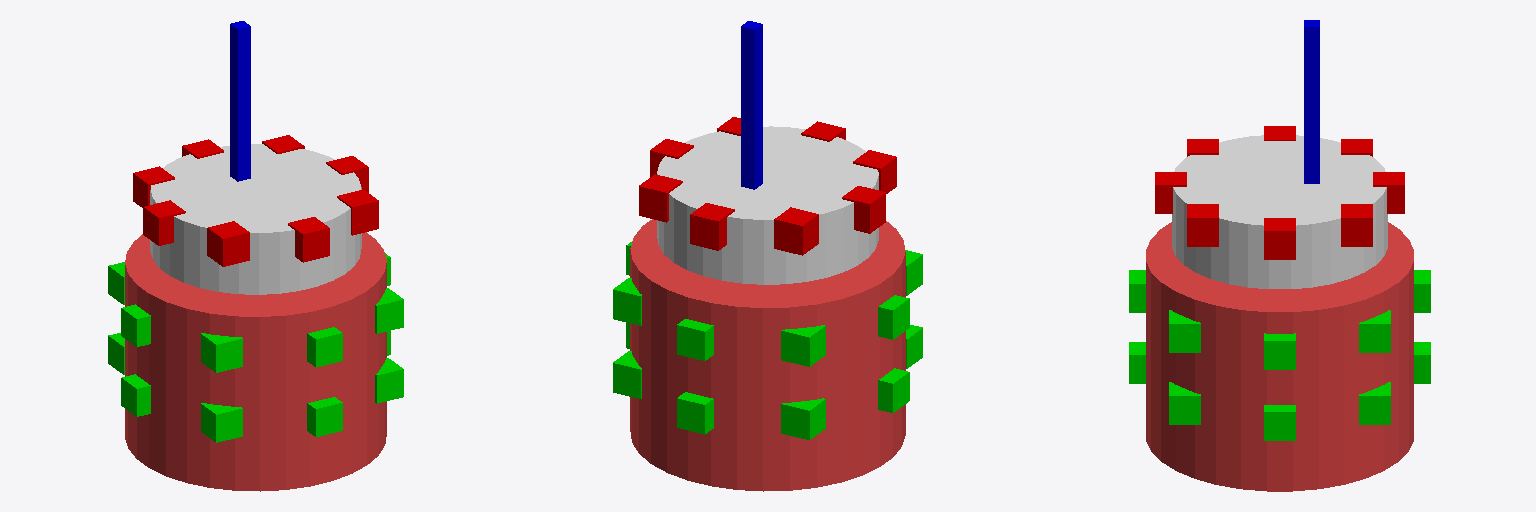
URDF robot description (random_bottle):
<?xml version="1.0"?>
<robot name="random_bottle">

  <!-- Define the cap link -->
  <link name="link1">
    <visual>
      <geometry>
        <mesh filename="cap.obj" scale="1.0 1.0 1.0"/>
      </geometry>
       <material name="white">
        <color rgba=".9 .9 .9 1"/>
      </material>

    </visual>
    <collision>
      <geometry>
        <mesh filename="cap.obj" scale="1.0 1.0 1.0"/>
      </geometry>
    </collision>

    <inertial>
      <mass value="0.012790120270006197"/> <!-- You can adjust the mass as needed -->
      <origin rpy="0 0 0" xyz="0 0 0"/>
      <inertia ixx="4.198117352491073e-06" ixy="0.0" ixz="0.0" iyy="4.198117352491073e-06" iyz="0.0" izz="7.375299687955079e-06"/>
    </inertial>
  </link>

    <link name="l10">
    <visual>
      <geometry>
        <box size="0.01 0.01 0.01"/>
      </geometry>

      <material name="red">
        <color rgba="0.9 0.0 0.0 1"/>
      </material>

    </visual>

    <inertial>
      <mass value="0.0001"/> <!-- You can adjust the mass as needed -->
      <origin rpy="0 0 0" xyz="0 0 -0.00"/> <!-- Offset by half of link1's height + 0.03m for the margin -->
      <inertia ixx="0.000000003" ixy="0.0" ixz="0.0" iyy="0.0000003" iyz="0.0" izz="0.00000003"/>
    </inertial>

  </link>
  <link name="l11">
    <visual>
      <geometry>
        <box size="0.01 0.01 0.01"/>
      </geometry>

      <material name="red">
        <color rgba="0.9 0.0 0.0 1"/>
      </material>

    </visual>

    <inertial>
      <mass value="0.0001"/> <!-- You can adjust the mass as needed -->
      <origin rpy="0 0 0" xyz="0 0 -0.00"/> <!-- Offset by half of link1's height + 0.03m for the margin -->
      <inertia ixx="0.000000003" ixy="0.0" ixz="0.0" iyy="0.0000003" iyz="0.0" izz="0.00000003"/>
    </inertial>

  </link>
  <link name="l12">
    <visual>
      <geometry>
        <box size="0.01 0.01 0.01"/>
      </geometry>

      <material name="red">
        <color rgba="0.9 0.0 0.0 1"/>
      </material>

    </visual>

    <inertial>
      <mass value="0.0001"/> <!-- You can adjust the mass as needed -->
      <origin rpy="0 0 0" xyz="0 0 -0.00"/> <!-- Offset by half of link1's height + 0.03m for the margin -->
      <inertia ixx="0.000000003" ixy="0.0" ixz="0.0" iyy="0.0000003" iyz="0.0" izz="0.00000003"/>
    </inertial>

  </link>
  <link name="l13">
    <visual>
      <geometry>
        <box size="0.01 0.01 0.01"/>
      </geometry>

      <material name="red">
        <color rgba="0.9 0.0 0.0 1"/>
      </material>

    </visual>

    <inertial>
      <mass value="0.0001"/> <!-- You can adjust the mass as needed -->
      <origin rpy="0 0 0" xyz="0 0 -0.00"/> <!-- Offset by half of link1's height + 0.03m for the margin -->
      <inertia ixx="0.000000003" ixy="0.0" ixz="0.0" iyy="0.0000003" iyz="0.0" izz="0.00000003"/>
    </inertial>

  </link>
  <link name="l10b">
    <visual>
      <geometry>
        <box size="0.01 0.01 0.01"/>
      </geometry>

      <material name="red">
        <color rgba="0.9 0.0 0.0 1"/>
      </material>

    </visual>

    <inertial>
      <mass value="0.0001"/> <!-- You can adjust the mass as needed -->
      <origin rpy="0 0 0" xyz="0 0 -0.00"/> <!-- Offset by half of link1's height + 0.03m for the margin -->
      <inertia ixx="0.000000003" ixy="0.0" ixz="0.0" iyy="0.0000003" iyz="0.0" izz="0.00000003"/>
    </inertial>

  </link>
  <link name="l11b">
    <visual>
      <geometry>
        <box size="0.01 0.01 0.01"/>
      </geometry>

      <material name="red">
        <color rgba="0.9 0.0 0.0 1"/>
      </material>

    </visual>

    <inertial>
      <mass value="0.0001"/> <!-- You can adjust the mass as needed -->
      <origin rpy="0 0 0" xyz="0 0 -0.00"/> <!-- Offset by half of link1's height + 0.03m for the margin -->
      <inertia ixx="0.000000003" ixy="0.0" ixz="0.0" iyy="0.0000003" iyz="0.0" izz="0.00000003"/>
    </inertial>

  </link>
  <link name="l12b">
    <visual>
      <geometry>
        <box size="0.01 0.01 0.01"/>
      </geometry>

      <material name="red">
        <color rgba="0.9 0.0 0.0 1"/>
      </material>

    </visual>

    <inertial>
      <mass value="0.0001"/> <!-- You can adjust the mass as needed -->
      <origin rpy="0 0 0" xyz="0 0 -0.00"/> <!-- Offset by half of link1's height + 0.03m for the margin -->
      <inertia ixx="0.000000003" ixy="0.0" ixz="0.0" iyy="0.0000003" iyz="0.0" izz="0.00000003"/>
    </inertial>

  </link>
  <link name="l13b">
    <visual>
      <geometry>
        <box size="0.01 0.01 0.01"/>
      </geometry>

      <material name="red">
        <color rgba="0.9 0.0 0.0 1"/>
      </material>

    </visual>

    <inertial>
      <mass value="0.0001"/> <!-- You can adjust the mass as needed -->
      <origin rpy="0 0 0" xyz="0 0 -0.00"/> <!-- Offset by half of link1's height + 0.03m for the margin -->
      <inertia ixx="0.000000003" ixy="0.0" ixz="0.0" iyy="0.0000003" iyz="0.0" izz="0.00000003"/>
    </inertial>

  </link>
  <link name="l20">
    <visual>
      <geometry>
        <box size="0.01 0.01 0.01"/>
      </geometry>

      <material name="red">
        <color rgba="0.0 0.9 0.0 1"/>
      </material>

    </visual>

    <inertial>
      <mass value="0.0001"/> <!-- You can adjust the mass as needed -->
      <origin rpy="0 0 0" xyz="0 0 -0.00"/> <!-- Offset by half of link1's height + 0.03m for the margin -->
      <inertia ixx="0.000000003" ixy="0.0" ixz="0.0" iyy="0.0000003" iyz="0.0" izz="0.00000003"/>
    </inertial>

  </link>
  <link name="l21">
    <visual>
      <geometry>
        <box size="0.01 0.01 0.01"/>
      </geometry>

      <material name="red">
        <color rgba="0.0 0.9 0.0 1"/>
      </material>

    </visual>

    <inertial>
      <mass value="0.0001"/> <!-- You can adjust the mass as needed -->
      <origin rpy="0 0 0" xyz="0 0 -0.00"/> <!-- Offset by half of link1's height + 0.03m for the margin -->
      <inertia ixx="0.000000003" ixy="0.0" ixz="0.0" iyy="0.0000003" iyz="0.0" izz="0.00000003"/>
    </inertial>

  </link>
  <link name="l22">
    <visual>
      <geometry>
        <box size="0.01 0.01 0.01"/>
      </geometry>

      <material name="red">
        <color rgba="0.0 0.9 0.0 1"/>
      </material>

    </visual>

    <inertial>
      <mass value="0.0001"/> <!-- You can adjust the mass as needed -->
      <origin rpy="0 0 0" xyz="0 0 -0.00"/> <!-- Offset by half of link1's height + 0.03m for the margin -->
      <inertia ixx="0.000000003" ixy="0.0" ixz="0.0" iyy="0.0000003" iyz="0.0" izz="0.00000003"/>
    </inertial>

  </link>
  <link name="l23">
    <visual>
      <geometry>
        <box size="0.01 0.01 0.01"/>
      </geometry>

      <material name="red">
        <color rgba="0.0 0.9 0.0 1"/>
      </material>

    </visual>

    <inertial>
      <mass value="0.0001"/> <!-- You can adjust the mass as needed -->
      <origin rpy="0 0 0" xyz="0 0 -0.00"/> <!-- Offset by half of link1's height + 0.03m for the margin -->
      <inertia ixx="0.000000003" ixy="0.0" ixz="0.0" iyy="0.0000003" iyz="0.0" izz="0.00000003"/>
    </inertial>

  </link>
  <link name="l24">
    <visual>
      <geometry>
        <box size="0.01 0.01 0.01"/>
      </geometry>

      <material name="red">
        <color rgba="0.0 0.9 0.0 1"/>
      </material>

    </visual>

    <inertial>
      <mass value="0.0001"/> <!-- You can adjust the mass as needed -->
      <origin rpy="0 0 0" xyz="0 0 -0.00"/> <!-- Offset by half of link1's height + 0.03m for the margin -->
      <inertia ixx="0.000000003" ixy="0.0" ixz="0.0" iyy="0.0000003" iyz="0.0" izz="0.00000003"/>
    </inertial>

  </link>
  <link name="l25">
    <visual>
      <geometry>
        <box size="0.01 0.01 0.01"/>
      </geometry>

      <material name="red">
        <color rgba="0.0 0.9 0.0 1"/>
      </material>

    </visual>

    <inertial>
      <mass value="0.0001"/> <!-- You can adjust the mass as needed -->
      <origin rpy="0 0 0" xyz="0 0 -0.00"/> <!-- Offset by half of link1's height + 0.03m for the margin -->
      <inertia ixx="0.000000003" ixy="0.0" ixz="0.0" iyy="0.0000003" iyz="0.0" izz="0.00000003"/>
    </inertial>

  </link>
  <link name="l26">
    <visual>
      <geometry>
        <box size="0.01 0.01 0.01"/>
      </geometry>

      <material name="red">
        <color rgba="0.0 0.9 0.0 1"/>
      </material>

    </visual>

    <inertial>
      <mass value="0.0001"/> <!-- You can adjust the mass as needed -->
      <origin rpy="0 0 0" xyz="0 0 -0.00"/> <!-- Offset by half of link1's height + 0.03m for the margin -->
      <inertia ixx="0.000000003" ixy="0.0" ixz="0.0" iyy="0.0000003" iyz="0.0" izz="0.00000003"/>
    </inertial>

  </link>
  <link name="l27">
    <visual>
      <geometry>
        <box size="0.01 0.01 0.01"/>
      </geometry>

      <material name="red">
        <color rgba="0.0 0.9 0.0 1"/>
      </material>

    </visual>

    <inertial>
      <mass value="0.0001"/> <!-- You can adjust the mass as needed -->
      <origin rpy="0 0 0" xyz="0 0 -0.00"/> <!-- Offset by half of link1's height + 0.03m for the margin -->
      <inertia ixx="0.000000003" ixy="0.0" ixz="0.0" iyy="0.0000003" iyz="0.0" izz="0.00000003"/>
    </inertial>

  </link>
  <link name="l30">
    <visual>
      <geometry>
        <box size="0.01 0.01 0.01"/>
      </geometry>

      <material name="red">
        <color rgba="0.0 0.9 0.0 1"/>
      </material>

    </visual>

    <inertial>
      <mass value="0.0001"/> <!-- You can adjust the mass as needed -->
      <origin rpy="0 0 0" xyz="0 0 -0.00"/> <!-- Offset by half of link1's height + 0.03m for the margin -->
      <inertia ixx="0.000000003" ixy="0.0" ixz="0.0" iyy="0.0000003" iyz="0.0" izz="0.00000003"/>
    </inertial>

  </link>
  <link name="l31">
    <visual>
      <geometry>
        <box size="0.01 0.01 0.01"/>
      </geometry>

      <material name="red">
        <color rgba="0.0 0.9 0.0 1"/>
      </material>

    </visual>

    <inertial>
      <mass value="0.0001"/> <!-- You can adjust the mass as needed -->
      <origin rpy="0 0 0" xyz="0 0 -0.00"/> <!-- Offset by half of link1's height + 0.03m for the margin -->
      <inertia ixx="0.000000003" ixy="0.0" ixz="0.0" iyy="0.0000003" iyz="0.0" izz="0.00000003"/>
    </inertial>

  </link>
  <link name="l32">
    <visual>
      <geometry>
        <box size="0.01 0.01 0.01"/>
      </geometry>

      <material name="red">
        <color rgba="0.0 0.9 0.0 1"/>
      </material>

    </visual>

    <inertial>
      <mass value="0.0001"/> <!-- You can adjust the mass as needed -->
      <origin rpy="0 0 0" xyz="0 0 -0.00"/> <!-- Offset by half of link1's height + 0.03m for the margin -->
      <inertia ixx="0.000000003" ixy="0.0" ixz="0.0" iyy="0.0000003" iyz="0.0" izz="0.00000003"/>
    </inertial>

  </link>
  <link name="l33">
    <visual>
      <geometry>
        <box size="0.01 0.01 0.01"/>
      </geometry>

      <material name="red">
        <color rgba="0.0 0.9 0.0 1"/>
      </material>

    </visual>

    <inertial>
      <mass value="0.0001"/> <!-- You can adjust the mass as needed -->
      <origin rpy="0 0 0" xyz="0 0 -0.00"/> <!-- Offset by half of link1's height + 0.03m for the margin -->
      <inertia ixx="0.000000003" ixy="0.0" ixz="0.0" iyy="0.0000003" iyz="0.0" izz="0.00000003"/>
    </inertial>

  </link>
  <link name="l34">
    <visual>
      <geometry>
        <box size="0.01 0.01 0.01"/>
      </geometry>

      <material name="red">
        <color rgba="0.0 0.9 0.0 1"/>
      </material>

    </visual>

    <inertial>
      <mass value="0.0001"/> <!-- You can adjust the mass as needed -->
      <origin rpy="0 0 0" xyz="0 0 -0.00"/> <!-- Offset by half of link1's height + 0.03m for the margin -->
      <inertia ixx="0.000000003" ixy="0.0" ixz="0.0" iyy="0.0000003" iyz="0.0" izz="0.00000003"/>
    </inertial>

  </link>
  <link name="l35">
    <visual>
      <geometry>
        <box size="0.01 0.01 0.01"/>
      </geometry>

      <material name="red">
        <color rgba="0.0 0.9 0.0 1"/>
      </material>

    </visual>

    <inertial>
      <mass value="0.0001"/> <!-- You can adjust the mass as needed -->
      <origin rpy="0 0 0" xyz="0 0 -0.00"/> <!-- Offset by half of link1's height + 0.03m for the margin -->
      <inertia ixx="0.000000003" ixy="0.0" ixz="0.0" iyy="0.0000003" iyz="0.0" izz="0.00000003"/>
    </inertial>

  </link>
  <link name="l36">
    <visual>
      <geometry>
        <box size="0.01 0.01 0.01"/>
      </geometry>

      <material name="red">
        <color rgba="0.0 0.9 0.0 1"/>
      </material>

    </visual>

    <inertial>
      <mass value="0.0001"/> <!-- You can adjust the mass as needed -->
      <origin rpy="0 0 0" xyz="0 0 -0.00"/> <!-- Offset by half of link1's height + 0.03m for the margin -->
      <inertia ixx="0.000000003" ixy="0.0" ixz="0.0" iyy="0.0000003" iyz="0.0" izz="0.00000003"/>
    </inertial>

  </link>
  <link name="l37">
    <visual>
      <geometry>
        <box size="0.01 0.01 0.01"/>
      </geometry>

      <material name="red">
        <color rgba="0.0 0.9 0.0 1"/>
      </material>

    </visual>

    <inertial>
      <mass value="0.0001"/> <!-- You can adjust the mass as needed -->
      <origin rpy="0 0 0" xyz="0 0 -0.00"/> <!-- Offset by half of link1's height + 0.03m for the margin -->
      <inertia ixx="0.000000003" ixy="0.0" ixz="0.0" iyy="0.0000003" iyz="0.0" izz="0.00000003"/>
    </inertial>

  </link>


  <link name="hint">
    <visual>
      <geometry>
        <box size="0.005 0.005 0.07"/> <!-- 9cm x 9cm x 6cm -->
      </geometry>
       <material name="blue">
        <color rgba=".0 .0 .9 1"/>
      </material>
    </visual>

    <inertial>
      <mass value="0.0001"/> <!-- You can adjust the mass as needed -->
      <origin rpy="0 0 0" xyz="0 0 -0.00"/> <!-- Offset by half of link1's height + 0.03m for the margin -->
      <inertia ixx="0.000000003" ixy="0.0" ixz="0.0" iyy="0.0000003" iyz="0.0" izz="0.00000003"/>
    </inertial>


  </link>

  <!-- Define the base link -->
  <link name="link2">
    <visual>
      <geometry>
        <mesh filename="base.obj" scale="1.0 1.0 1.0"/>
      </geometry>
      <material name="red">
        <color rgba=".9 .3 .3 1"/>
      </material>

    </visual>

    <collision>
      <geometry>
        <mesh filename="base.obj" scale="1.0 1.0 1.0"/>
      </geometry>
    </collision>

    <inertial>
      <mass value="0.04815356946766876"/> <!-- You can adjust the mass as needed -->
      <origin rpy="0 0 0" xyz="0 0 -0.00"/> <!-- Offset by half of link1's height + 0.03m for the margin -->
      <inertia ixx="3.67728756956987e-05" ixy="0.0" ixz="0.0" iyy="3.67728756956987e-05" iyz="0.0" izz="4.2785837791732674e-05"/>
    </inertial>
  </link>



  <link name="brake">
   <visual>
      <geometry>
        <box size="0.02 0.02 0.005"/> <!-- 6cm x 6cm x 2cm -->
      </geometry>
       <material name="gray">
        <color rgba=".5 .5 .5 1"/>
      </material>

    </visual>
    <collision>
      <geometry>
        <box size="0.02 0.02 0.005"/> <!-- 6cm x 6cm x 2cm -->
      </geometry>
    </collision>

    <inertial>
      <mass value="0.005"/> <!-- You can adjust the mass as needed -->
      <origin rpy="0 0 0" xyz="0 0 0"/>
      <inertia ixx="0.00018" ixy="0.0" ixz="0.0" iyy="0.00018" iyz="0.0" izz="0.00018"/>
    </inertial>
  </link>

  <!-- Define the joint connecting link1 and link2 as a revolute joint along z-axis -->
  <joint name="fix_joint" type="fixed">
    <parent link="link1"/>
    <child link="hint"/>
    <origin rpy="0 0 0" xyz="0 0.01 0.03"/> <!-- Offset by half of link1's height for the margin -->
    <axis xyz="0 0 1"/>
  </joint>

  <!-- Define the joint connecting link1 and link2 as a revolute joint along z-axis -->
  <joint name="brake_joint" type="prismatic">
    <parent link="link2"/>
    <child link="brake"/>
    <origin rpy="0 0 0" xyz="0 0 0.05283904752768498"/> <!-- Offset by half of link1's height for the margin -->
    <axis xyz="0 0 1"/>
    <limit lower="-0.02" upper="0.02" />
    <!-- <dynamics damping="0.0" friction="0.0"/> -->
  </joint>


  <joint name="b_joint" type="revolute">
    <parent link="link2"/>
    <child link="link1"/>
    <origin rpy="0 0 0" xyz="0 0 0.04595451062365745"/> <!-- Offset by half of link1's height for the margin -->
    <axis xyz="0 0 1"/>
    <!-- No joint limits -->
    <dynamics damping="0.0" friction="0.0"/>
  </joint>


  <!-- marker -->
    <joint name="jl10" type="fixed">
    <parent link="link1"/>
    <child link="l10"/>
    <origin rpy="0 0 0" xyz="0.0 0.03395998734521217 0.006565361071208259"/> <!-- Offset by half of link1's height for the margin -->
    <axis xyz="0 0 1"/>
  </joint>
  <joint name="jl11" type="fixed">
    <parent link="link1"/>
    <child link="l11"/>
    <origin rpy="0 0 0" xyz="0.02401333701909142 0.024013337662526304 0.006565361071208259"/> <!-- Offset by half of link1's height for the margin -->
    <axis xyz="0 0 1"/>
  </joint>
  <joint name="jl12" type="fixed">
    <parent link="link1"/>
    <child link="l12"/>
    <origin rpy="0 0 0" xyz="0.033959987345212155 9.099543489438411e-10 0.006565361071208259"/> <!-- Offset by half of link1's height for the margin -->
    <axis xyz="0 0 1"/>
  </joint>
  <joint name="jl13" type="fixed">
    <parent link="link1"/>
    <child link="l13"/>
    <origin rpy="0 0 0" xyz="0.024013338305961175 -0.024013336375656513 0.006565361071208259"/> <!-- Offset by half of link1's height for the margin -->
    <axis xyz="0 0 1"/>
  </joint>
  <joint name="jl10b" type="fixed">
    <parent link="link1"/>
    <child link="l10b"/>
    <origin rpy="0 0 0" xyz="1.8199086978876816e-09 -0.03395998734521212 0.006565361071208259"/> <!-- Offset by half of link1's height for the margin -->
    <axis xyz="0 0 1"/>
  </joint>
  <joint name="jl11b" type="fixed">
    <parent link="link1"/>
    <child link="l11b"/>
    <origin rpy="0 0 0" xyz="-0.02401333573222158 -0.024013338949396043 0.006565361071208259"/> <!-- Offset by half of link1's height for the margin -->
    <axis xyz="0 0 1"/>
  </joint>
  <joint name="jl12b" type="fixed">
    <parent link="link1"/>
    <child link="l12b"/>
    <origin rpy="0 0 0" xyz="-0.03395998734521206 -2.729863031750257e-09 0.006565361071208259"/> <!-- Offset by half of link1's height for the margin -->
    <axis xyz="0 0 1"/>
  </joint>
  <joint name="jl13b" type="fixed">
    <parent link="link1"/>
    <child link="l13b"/>
    <origin rpy="0 0 0" xyz="-0.02401333959283087 0.02401333508878665 0.006565361071208259"/> <!-- Offset by half of link1's height for the margin -->
    <axis xyz="0 0 1"/>
  </joint>
  <joint name="jl20" type="fixed">
    <parent link="link2"/>
    <child link="l20"/>
    <origin rpy="0 0 0" xyz="0.0 0.04215516322793239 0.01857270637419447"/> <!-- Offset by half of link1's height for the margin -->
    <axis xyz="0 0 1"/>
  </joint>
  <joint name="jl21" type="fixed">
    <parent link="link2"/>
    <child link="l21"/>
    <origin rpy="0 0 0" xyz="0.02980820138114294 0.02980820217985062 0.01857270637419447"/> <!-- Offset by half of link1's height for the margin -->
    <axis xyz="0 0 1"/>
  </joint>
  <joint name="jl22" type="fixed">
    <parent link="link2"/>
    <child link="l22"/>
    <origin rpy="0 0 0" xyz="0.04215516322793238 1.1295432392174503e-09 0.01857270637419447"/> <!-- Offset by half of link1's height for the margin -->
    <axis xyz="0 0 1"/>
  </joint>
  <joint name="jl23" type="fixed">
    <parent link="link2"/>
    <child link="l23"/>
    <origin rpy="0 0 0" xyz="0.02980820297855828 -0.02980820058243524 0.01857270637419447"/> <!-- Offset by half of link1's height for the margin -->
    <axis xyz="0 0 1"/>
  </joint>
  <joint name="jl24" type="fixed">
    <parent link="link2"/>
    <child link="l24"/>
    <origin rpy="0 0 0" xyz="2.2590864784348998e-09 -0.04215516322793233 0.01857270637419447"/> <!-- Offset by half of link1's height for the margin -->
    <axis xyz="0 0 1"/>
  </joint>
  <joint name="jl25" type="fixed">
    <parent link="link2"/>
    <child link="l25"/>
    <origin rpy="0 0 0" xyz="-0.0298081997837275 -0.029808203777265934 0.01857270637419447"/> <!-- Offset by half of link1's height for the margin -->
    <axis xyz="0 0 1"/>
  </joint>
  <joint name="jl26" type="fixed">
    <parent link="link2"/>
    <child link="l26"/>
    <origin rpy="0 0 0" xyz="-0.04215516322793225 -3.3886296989316946e-09 0.01857270637419447"/> <!-- Offset by half of link1's height for the margin -->
    <axis xyz="0 0 1"/>
  </joint>
  <joint name="jl27" type="fixed">
    <parent link="link2"/>
    <child link="l27"/>
    <origin rpy="0 0 0" xyz="-0.029808204575973538 0.029808198985019765 0.01857270637419447"/> <!-- Offset by half of link1's height for the margin -->
    <axis xyz="0 0 1"/>
  </joint>
  <joint name="jl30" type="fixed">
    <parent link="link2"/>
    <child link="l30"/>
    <origin rpy="0 0 0" xyz="0.0 0.04215516322793239 -0.00619090212473149"/> <!-- Offset by half of link1's height for the margin -->
    <axis xyz="0 0 1"/>
  </joint>
  <joint name="jl31" type="fixed">
    <parent link="link2"/>
    <child link="l31"/>
    <origin rpy="0 0 0" xyz="0.02980820138114294 0.02980820217985062 -0.00619090212473149"/> <!-- Offset by half of link1's height for the margin -->
    <axis xyz="0 0 1"/>
  </joint>
  <joint name="jl32" type="fixed">
    <parent link="link2"/>
    <child link="l32"/>
    <origin rpy="0 0 0" xyz="0.04215516322793238 1.1295432392174503e-09 -0.00619090212473149"/> <!-- Offset by half of link1's height for the margin -->
    <axis xyz="0 0 1"/>
  </joint>
  <joint name="jl33" type="fixed">
    <parent link="link2"/>
    <child link="l33"/>
    <origin rpy="0 0 0" xyz="0.02980820297855828 -0.02980820058243524 -0.00619090212473149"/> <!-- Offset by half of link1's height for the margin -->
    <axis xyz="0 0 1"/>
  </joint>
  <joint name="jl34" type="fixed">
    <parent link="link2"/>
    <child link="l34"/>
    <origin rpy="0 0 0" xyz="2.2590864784348998e-09 -0.04215516322793233 -0.00619090212473149"/> <!-- Offset by half of link1's height for the margin -->
    <axis xyz="0 0 1"/>
  </joint>
  <joint name="jl35" type="fixed">
    <parent link="link2"/>
    <child link="l35"/>
    <origin rpy="0 0 0" xyz="-0.0298081997837275 -0.029808203777265934 -0.00619090212473149"/> <!-- Offset by half of link1's height for the margin -->
    <axis xyz="0 0 1"/>
  </joint>
  <joint name="jl36" type="fixed">
    <parent link="link2"/>
    <child link="l36"/>
    <origin rpy="0 0 0" xyz="-0.04215516322793225 -3.3886296989316946e-09 -0.00619090212473149"/> <!-- Offset by half of link1's height for the margin -->
    <axis xyz="0 0 1"/>
  </joint>
  <joint name="jl37" type="fixed">
    <parent link="link2"/>
    <child link="l37"/>
    <origin rpy="0 0 0" xyz="-0.029808204575973538 0.029808198985019765 -0.00619090212473149"/> <!-- Offset by half of link1's height for the margin -->
    <axis xyz="0 0 1"/>
  </joint>



</robot>

--- Render facts (derived) ---
Views: 3 orthographic renders of the robot side by side, from view 1: azimuth 30°, elevation 25°; view 2: azimuth 150°, elevation 25°; view 3: azimuth 270°, elevation 25°.
Model random_bottle with 28 links and 27 joints (1 revolute, 1 prismatic, 25 fixed), rooted at link2, posed all joints at 0.
Links seen in each view (by area): view 1: link2, link1, hint, l11b, l25, l10b, l35, l12b, l24, l34, l13, l26 (+7 smaller); view 2: link2, link1, hint, l13b, l27, l37, l10, l12b, l11, l30, l20, l26 (+8 smaller); view 3: link2, link1, hint, l11, l13, l12, l31, l33, l21, l23, l22, l32 (+6 smaller).
Link boxes in pixels (x1,y1,x2,y2): link2: (125, 232, 386, 491); link1: (150, 144, 361, 294); hint: (230, 21, 250, 181); l11b: (207, 221, 249, 266); l25: (201, 333, 242, 372); l10b: (288, 217, 329, 262); l35: (201, 403, 242, 442); l12b: (143, 200, 185, 245); l24: (307, 327, 342, 366); l34: (307, 397, 342, 436); l13: (337, 190, 378, 235); l26: (121, 304, 150, 346); link2: (630, 219, 905, 491); link1: (657, 126, 878, 284); hint: (741, 21, 762, 189); l13b: (774, 207, 818, 255); l27: (781, 325, 825, 366); l37: (781, 398, 825, 439); l10: (690, 203, 734, 250); l12b: (842, 186, 885, 233); l11: (639, 174, 682, 222); l30: (677, 392, 713, 434); l20: (677, 319, 713, 360); l26: (878, 295, 909, 339); link2: (1146, 222, 1413, 491); link1: (1172, 135, 1387, 288); hint: (1304, 20, 1319, 183); l11: (1341, 204, 1372, 246); l13: (1187, 204, 1218, 246); l12: (1264, 218, 1295, 259); l31: (1359, 382, 1390, 424); l33: (1169, 382, 1200, 424); l21: (1359, 310, 1390, 352); l23: (1169, 310, 1200, 352); l22: (1264, 333, 1295, 369); l32: (1264, 405, 1295, 440).
Bounding box of the posed robot: 0.0943 × 0.0943 × 0.1419 m (x, y, z).
Meshes: 2 distinct files referenced, 2 mesh visuals loaded (2 OBJ).
